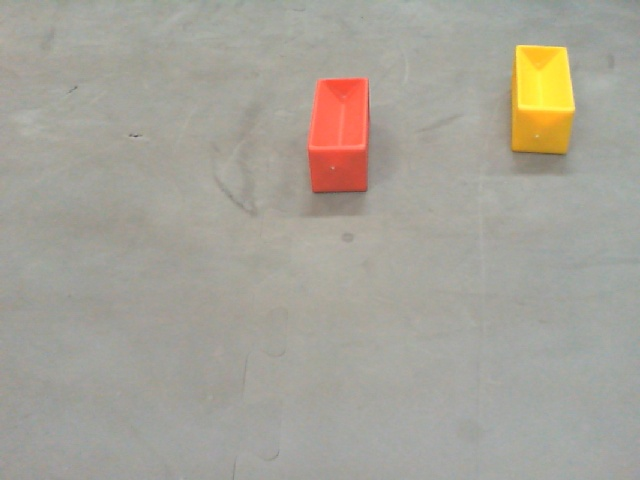RedSample: (306, 76, 371, 192)
YellowSample: (505, 43, 574, 156)
